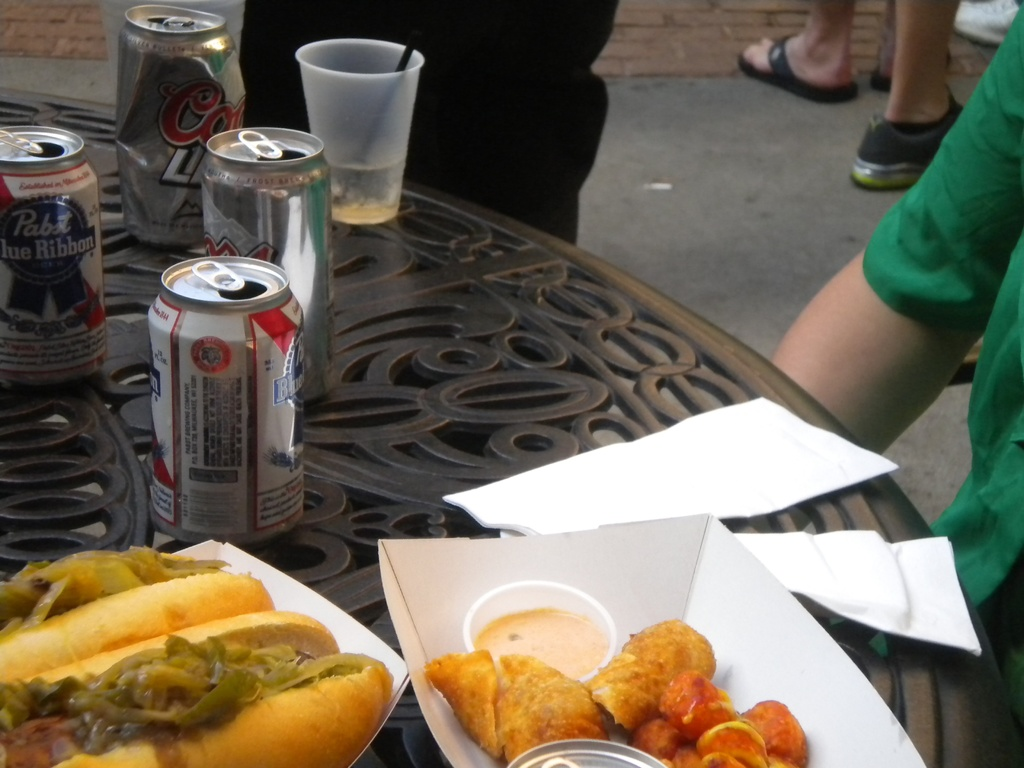hot_dog: (0, 602, 395, 767)
